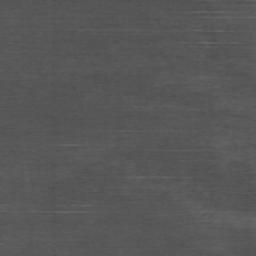Waist folding: (118, 0, 256, 183), (0, 160, 91, 215), (201, 208, 256, 214), (0, 49, 26, 53), (80, 28, 100, 33), (61, 143, 78, 148)
